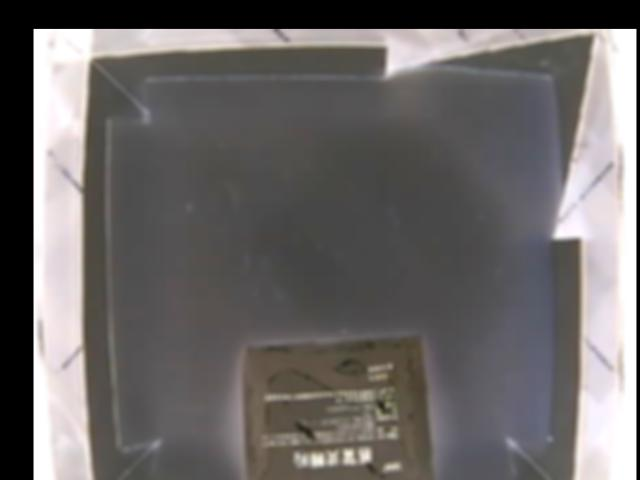Medicine: (239, 332, 432, 480)
